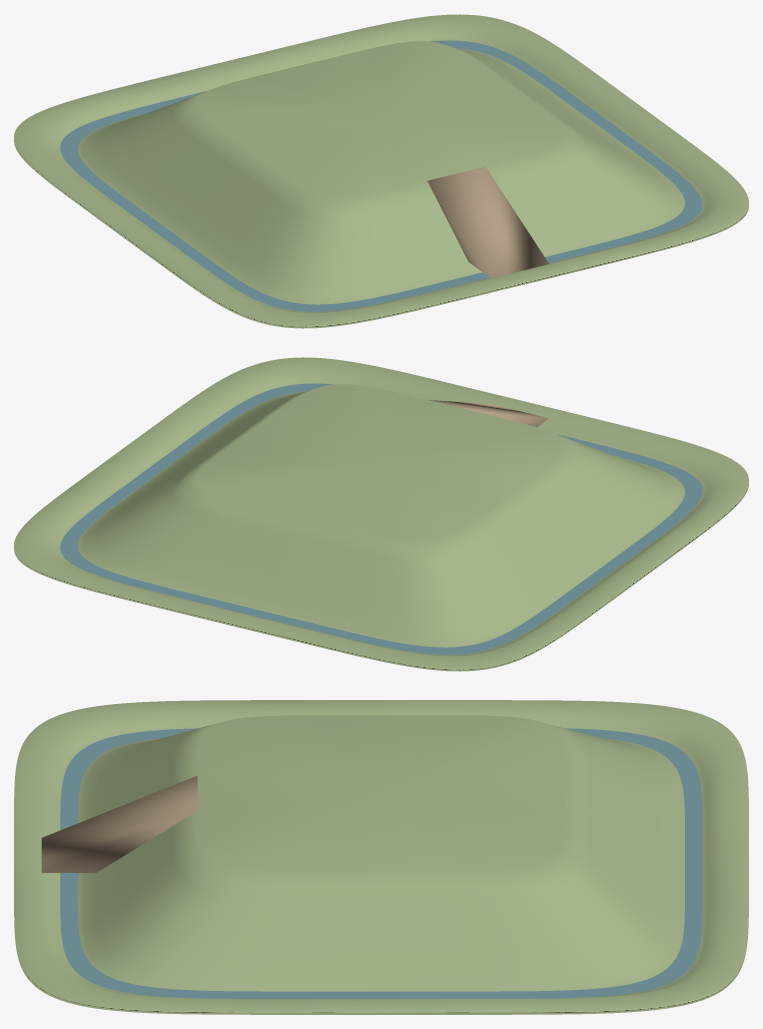
File: _workspace_motte_normals.glb
3 views of the same model, one above another, from view 1: azimuth 30°, elevation 25°; view 2: azimuth 150°, elevation 25°; view 3: azimuth 270°, elevation 25° (orthographic). The views are drawn at different scales.
Visible parts, largest first — view 1: Motte_Grass, Moat_Water, Ramp_Dirt; view 2: Motte_Grass, Moat_Water, Ramp_Dirt; view 3: Motte_Grass, Moat_Water, Ramp_Dirt.
Boxes of the visible parts, left/top/right/bottom form: Motte_Grass: left=14, top=14, right=748, bottom=328; Moat_Water: left=60, top=40, right=702, bottom=311; Ramp_Dirt: left=427, top=166, right=548, bottom=278; Motte_Grass: left=14, top=357, right=748, bottom=671; Moat_Water: left=60, top=383, right=702, bottom=654; Ramp_Dirt: left=428, top=400, right=548, bottom=427; Motte_Grass: left=14, top=700, right=748, bottom=1014; Moat_Water: left=60, top=728, right=702, bottom=998; Ramp_Dirt: left=41, top=775, right=197, bottom=872.
Bounding box in the file's own units: 160 × 17.8 × 160.
